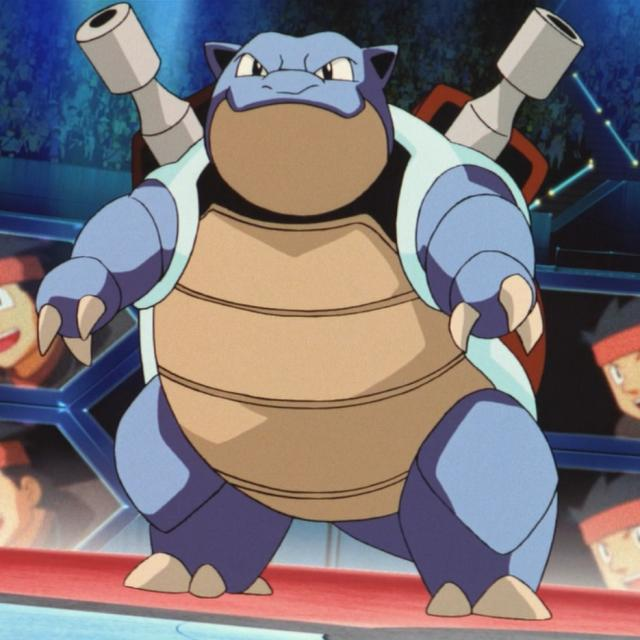Blastoise: (95, 4, 556, 598)
